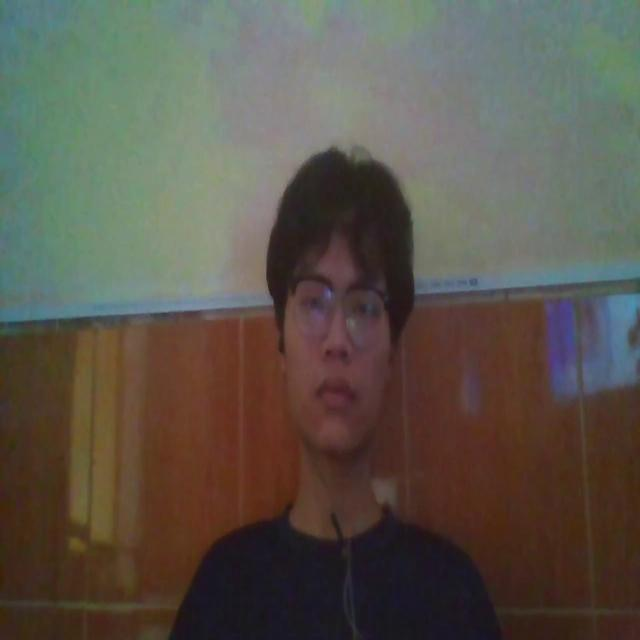student: (172, 134, 502, 640)
